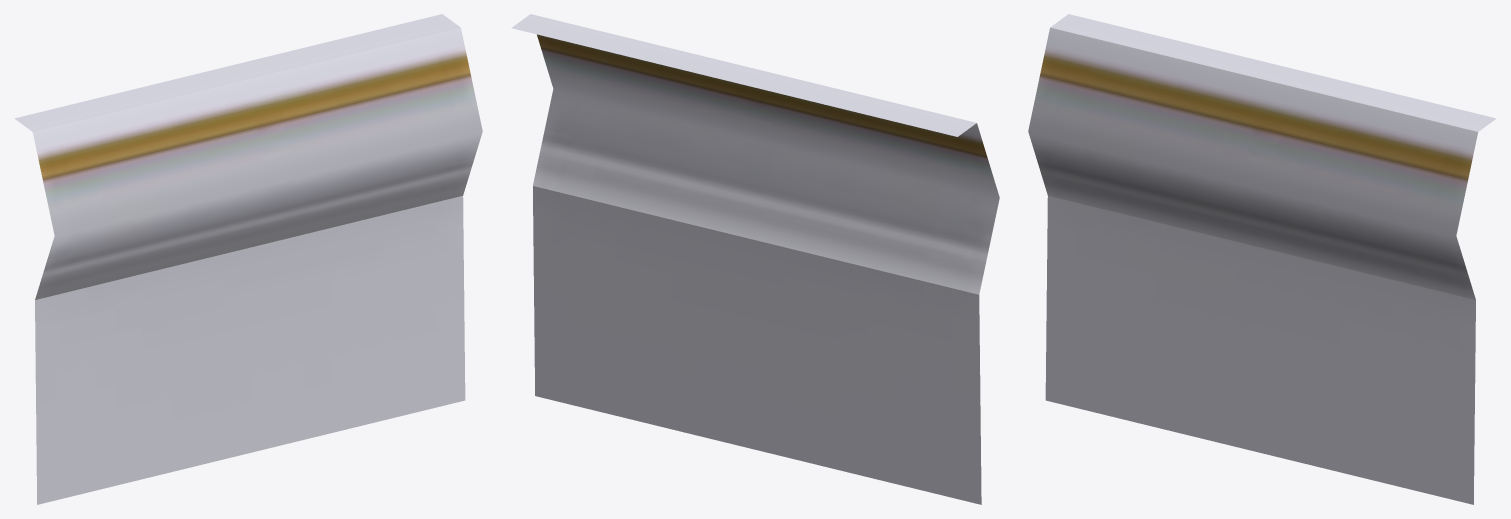
Rendered from Room02_EavesB.FBX.
3 views of the same model, side by side, from view 1: azimuth 30°, elevation 25°; view 2: azimuth 150°, elevation 25°; view 3: azimuth 330°, elevation 25° (orthographic). The views are drawn at different scales.
Visible parts, largest first — view 1: Room02_Eaves; view 2: Room02_Eaves; view 3: Room02_Eaves.
Boxes of the visible parts, bbox=[...] form: Room02_Eaves: bbox=[14, 14, 482, 504]; Room02_Eaves: bbox=[511, 14, 999, 504]; Room02_Eaves: bbox=[1028, 14, 1496, 504].
Size of the model in its own units: 40 by 6.54 by 33.
